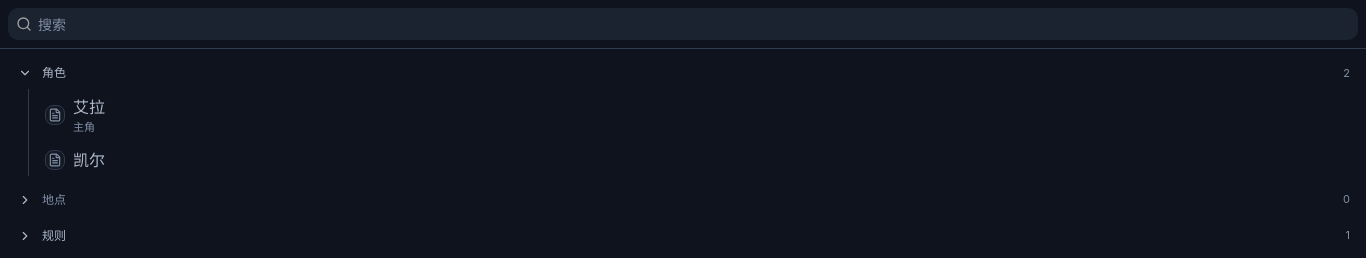
Test case: ResourceDirectory › toggles section collapse via the chevron button
The width and height of the screenshot is (1366, 258).
What coordinates should you click on to do the following:
click the button named "折叠角色"
I would click on:
 (25, 73)
Its box is [16,64,34,82].
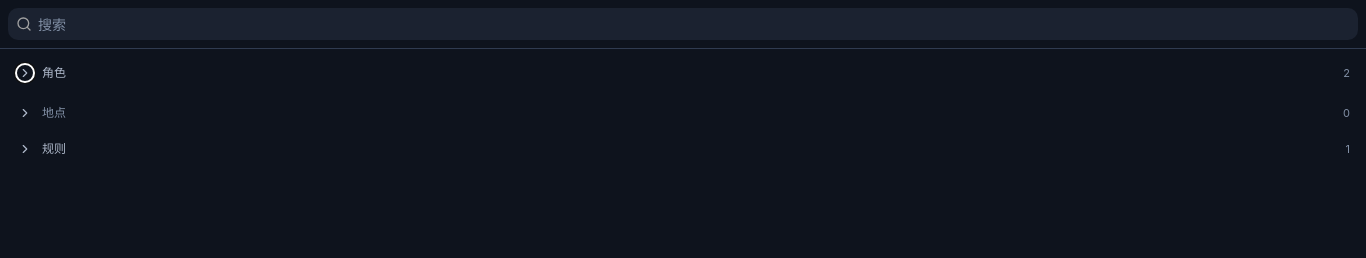
Now the button "艾拉" is gone
What coordinates should you click on to do the following:
click the button named "展开角色"
I would click on:
 (25, 73)
Its box is [16,64,34,82].
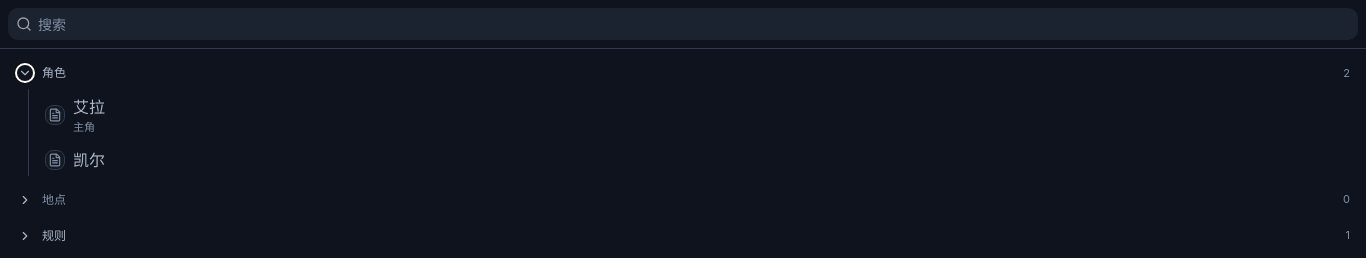
Now the text "艾拉" is shown, box [73,97,105,117]
